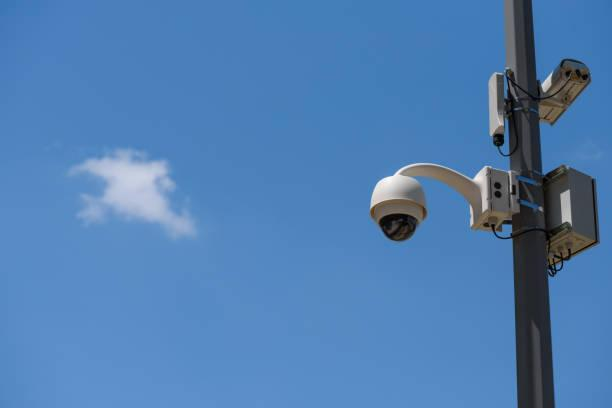camera: (521, 53, 607, 136), (358, 167, 432, 249)
